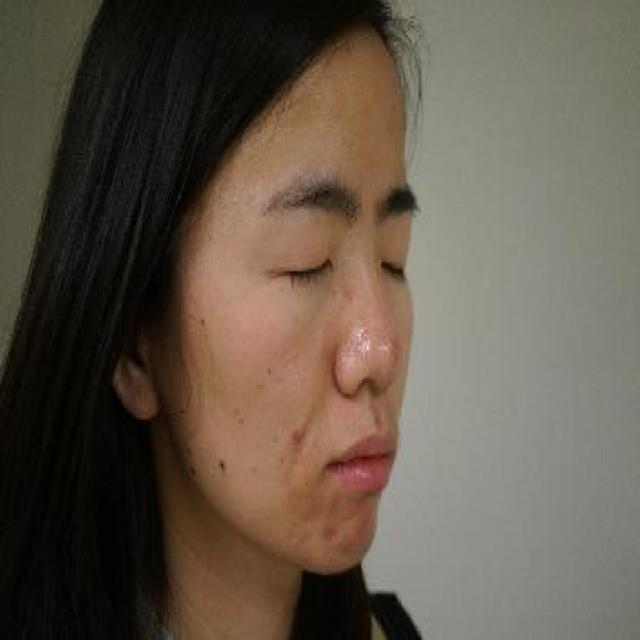dark spot: (323, 517, 337, 540)
nodules: (290, 401, 312, 452)
